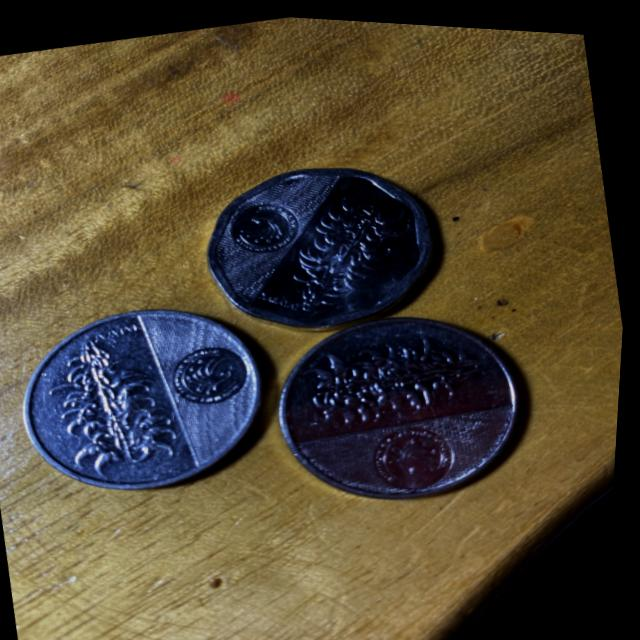5_New_Back: (39, 321, 186, 499)
